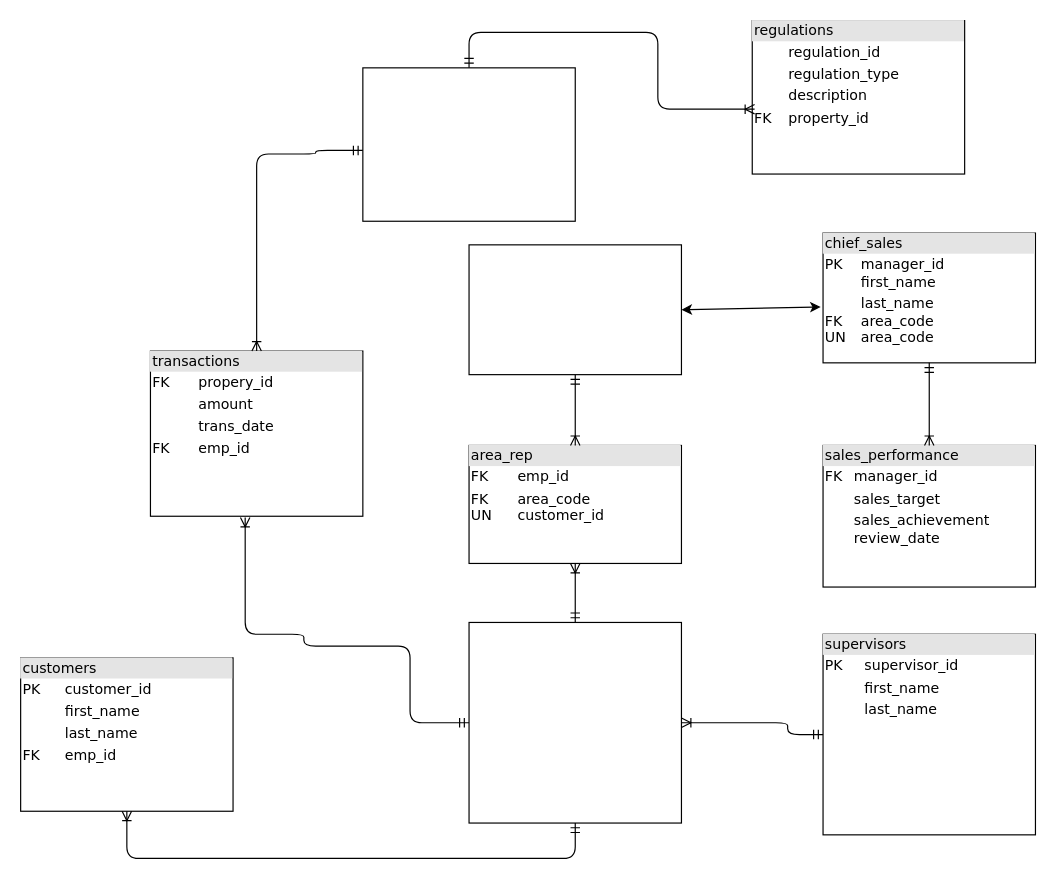
This 1056x890 diagram has some shape labels left out. The centre of each missing label's shape, as x and y in pixels:
"properties PK property_id property_type address" goes at pixel 468 144.
"representatives PK emp_id first_name FK last_name gender hiredate supervisor_id" goes at pixel 574 722.
"sales_area PK area_code area_name" goes at pixel 574 309.
